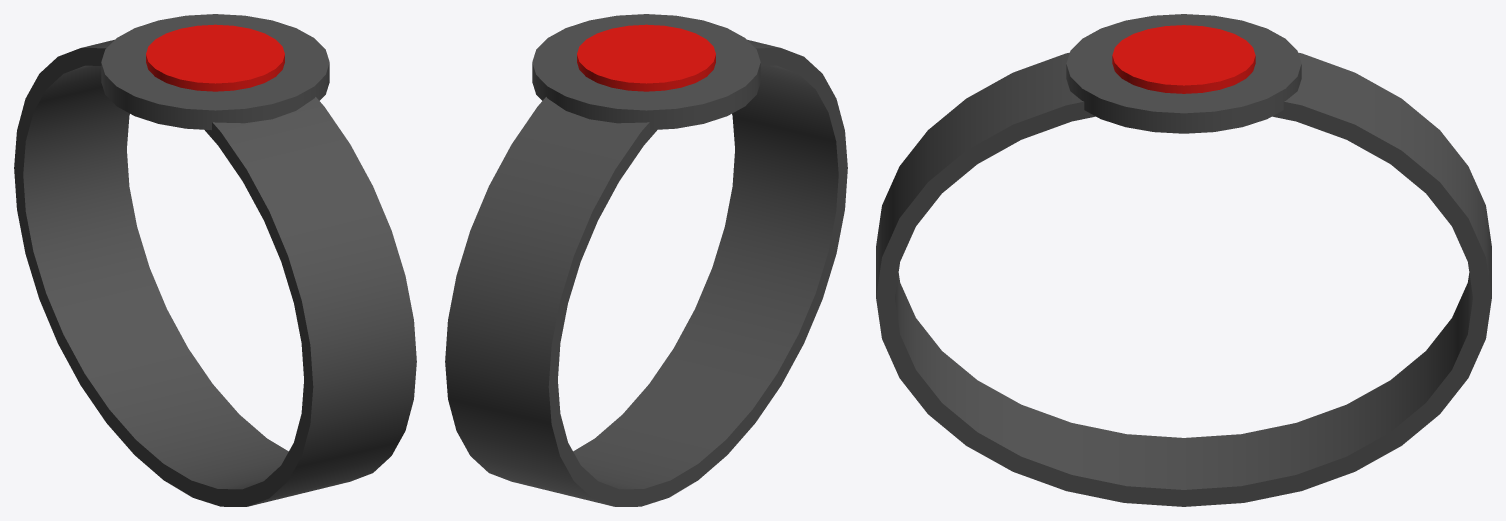
File: watch.fbx
3 renders of one model, left to right at view 1: azimuth 30°, elevation 25°; view 2: azimuth 150°, elevation 25°; view 3: azimuth 270°, elevation 25°, orthographic. The views are drawn at different scales.
Visible parts, largest first — view 1: Cylinder, Cylinder.001, Cylinder.002; view 2: Cylinder, Cylinder.001, Cylinder.002; view 3: Cylinder, Cylinder.001, Cylinder.002.
Part boxes in pixels (x1,y1,x2,y2): Cylinder: [14, 39, 416, 506]; Cylinder.001: [101, 14, 329, 130]; Cylinder.002: [146, 24, 284, 91]; Cylinder: [445, 39, 847, 506]; Cylinder.001: [532, 14, 760, 130]; Cylinder.002: [577, 24, 715, 91]; Cylinder: [876, 52, 1491, 506]; Cylinder.001: [1066, 14, 1301, 133]; Cylinder.002: [1112, 25, 1255, 93].
Bounding box in the file's own units: 2.52 × 5.03 × 6.6.
